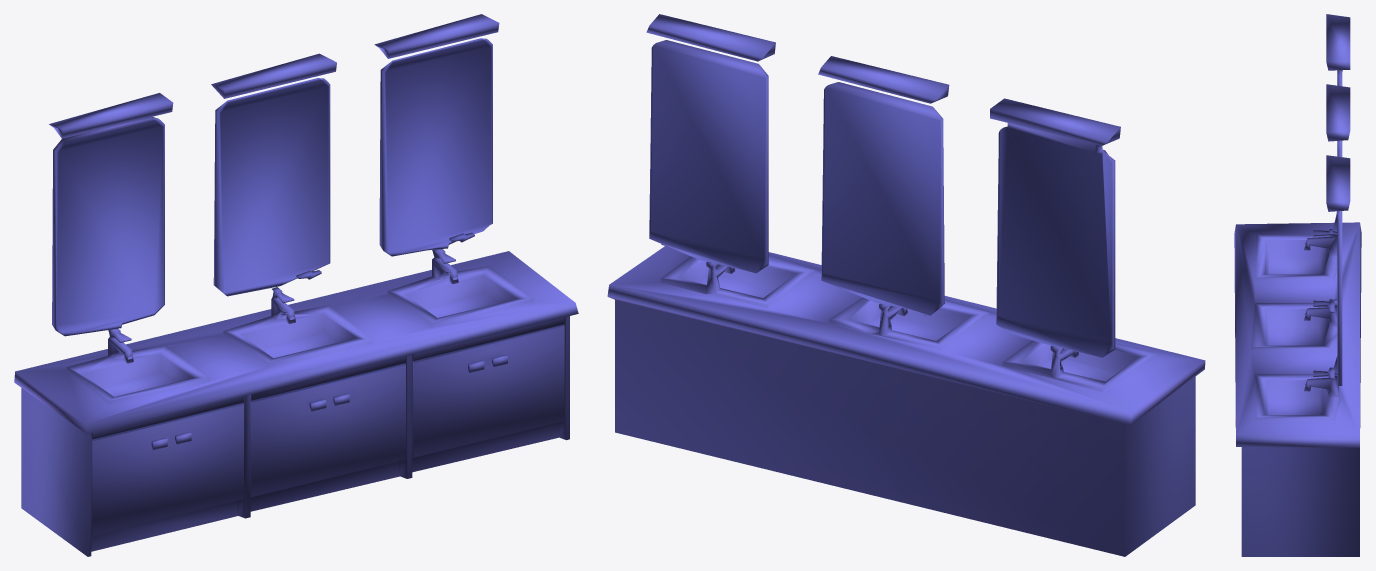
File: model.progressive.glb
3 renders of one model, left to right at view 1: azimuth 30°, elevation 25°; view 2: azimuth 150°, elevation 25°; view 3: azimuth 270°, elevation 25°, orthographic. The views are drawn at different scales.
Visible parts, largest first — view 1: ToiletSink1; view 2: ToiletSink1; view 3: ToiletSink1.
Boxes of the visible parts, x1,y1,x2,y2 form: ToiletSink1: [14, 14, 578, 556]; ToiletSink1: [607, 14, 1205, 556]; ToiletSink1: [1234, 14, 1361, 556].
Size of the model in its own units: 1.9 by 1.42 by 0.4746.
1 material, 1 textured.
